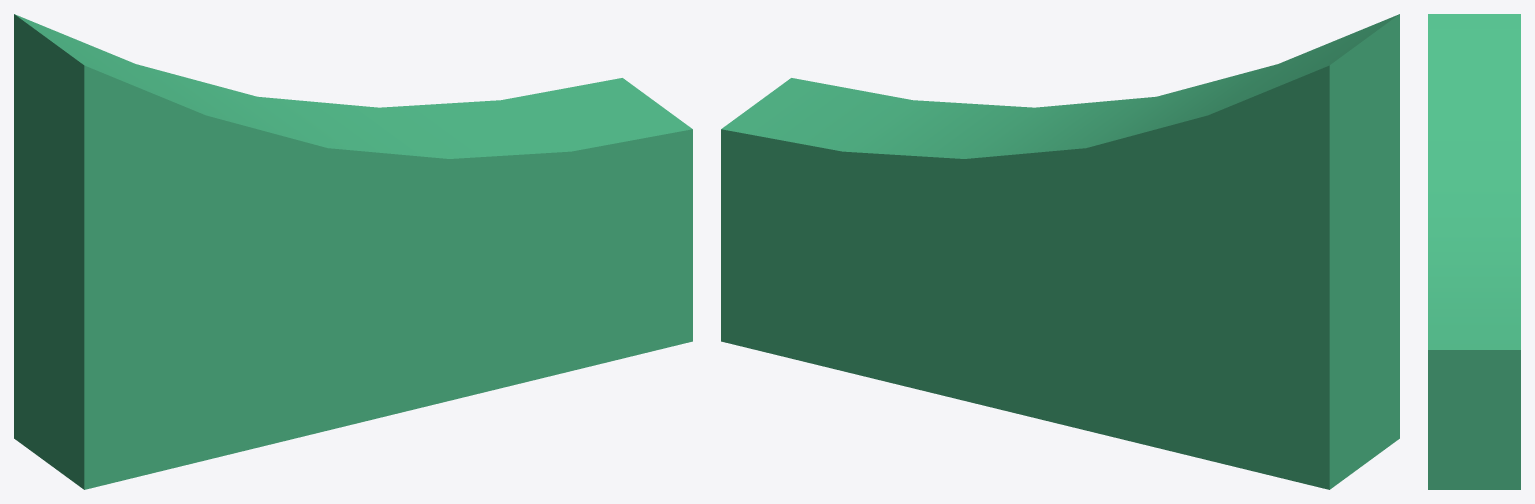
The model's file is gm_flipramp_01.dae.
The picture shows the model from 3 angles, left to right: view 1: azimuth 30°, elevation 25°; view 2: azimuth 150°, elevation 25°; view 3: azimuth 270°, elevation 25°; orthographic projection. The views are drawn at different scales.
Visible parts, largest first — view 1: Colmesh-1; view 2: Colmesh-1; view 3: Colmesh-1.
Boxes of the visible parts, left/top/right/bottom form: Colmesh-1: left=14, top=14, right=692, bottom=489; Colmesh-1: left=721, top=14, right=1399, bottom=489; Colmesh-1: left=1428, top=14, right=1520, bottom=489.
Bounding box in the file's own units: 3 × 0.6 × 2.
